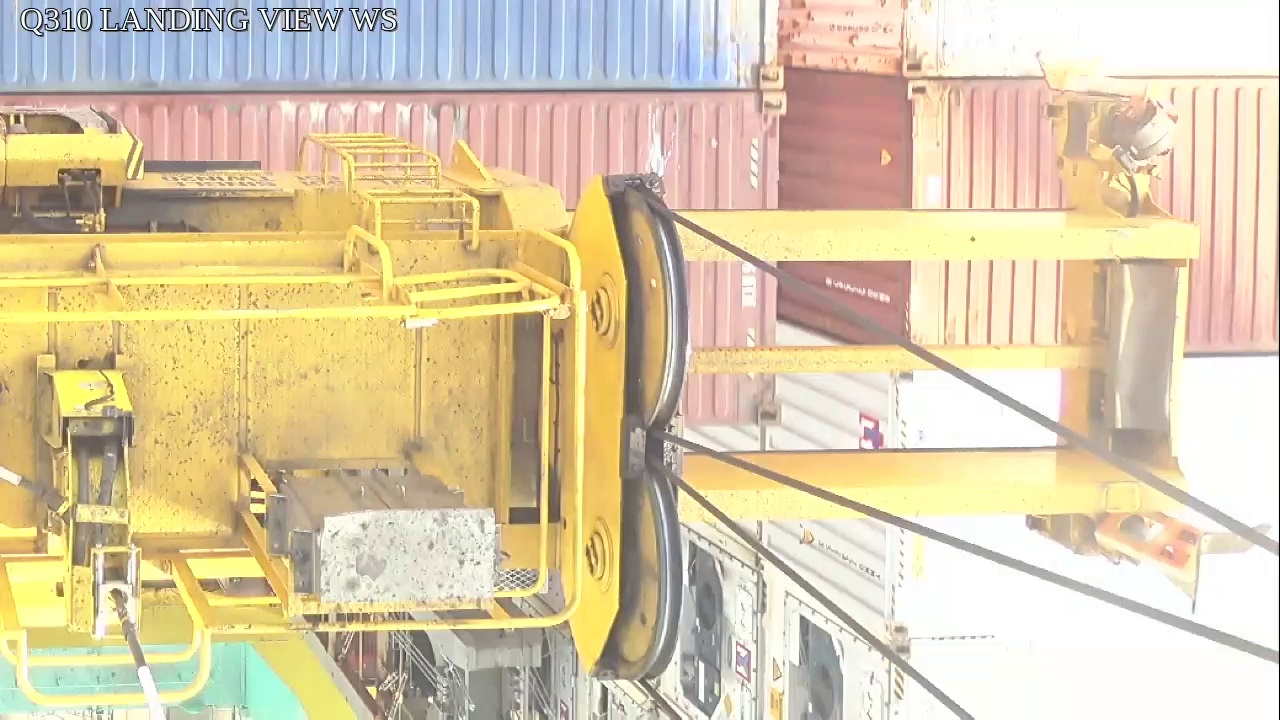right: (565, 174, 682, 687)
